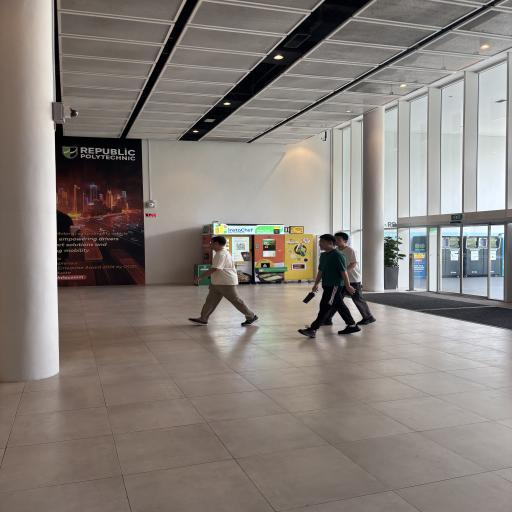person_left: (198, 233, 256, 325), (304, 232, 352, 336), (330, 224, 362, 320)
